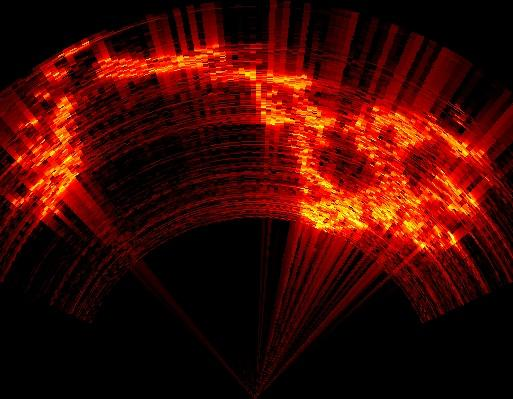shipwreck: (100, 45, 482, 248), (9, 97, 81, 218)
